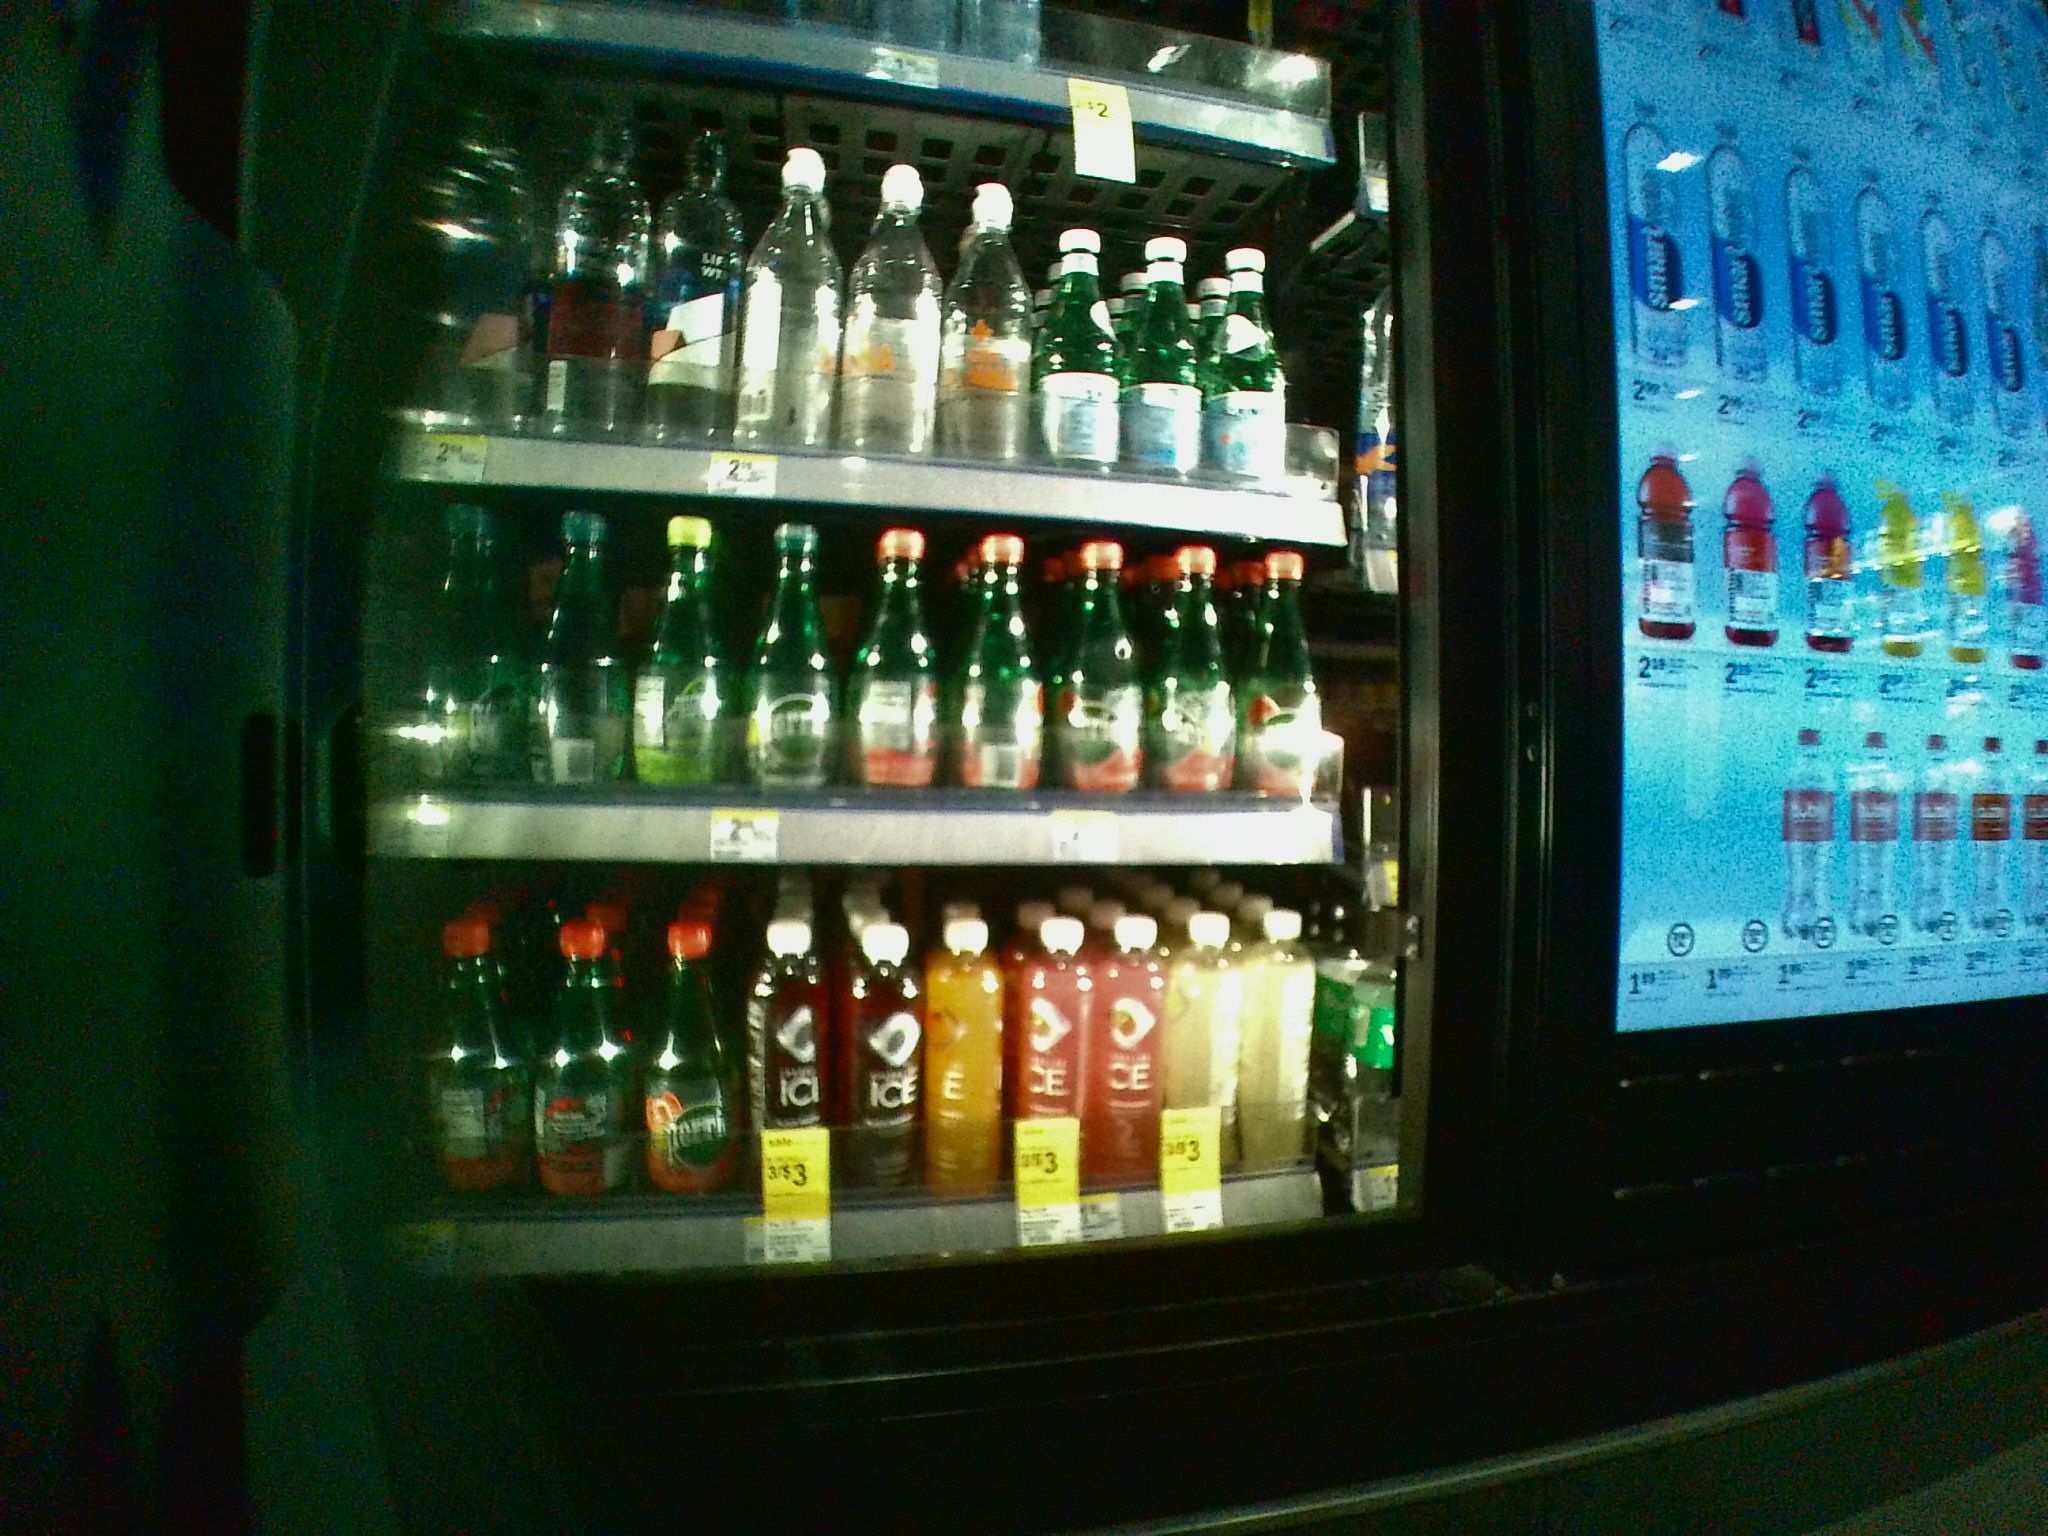shelf: (353, 874, 1405, 1292), (355, 486, 1409, 878)
